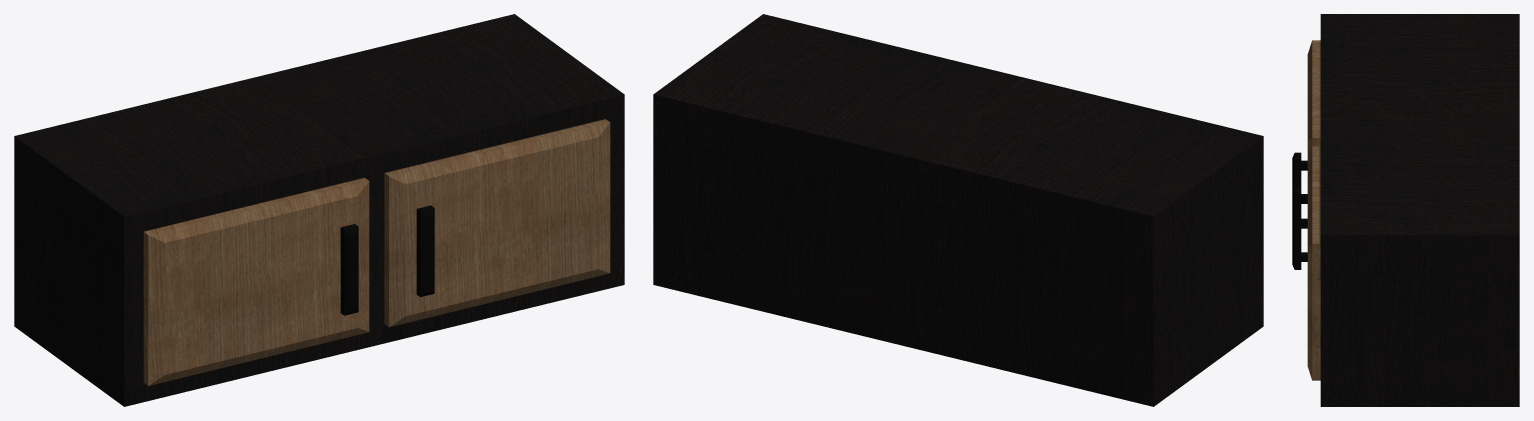
Rendered from TV_Stand_Q_UN_TEX.FBX.
3 renders of one model, left to right at view 1: azimuth 30°, elevation 25°; view 2: azimuth 150°, elevation 25°; view 3: azimuth 270°, elevation 25°, orthographic. The views are drawn at different scales.
Parts seen in each view (by area): view 1: TV_Stand, knob; view 2: TV_Stand; view 3: TV_Stand, knob.
Part boxes in pixels (bbox=[...]): TV_Stand: bbox=[14, 14, 624, 406]; knob: bbox=[340, 205, 434, 315]; TV_Stand: bbox=[653, 14, 1263, 406]; TV_Stand: bbox=[1307, 14, 1519, 406]; knob: bbox=[1292, 152, 1307, 269].
Bounding box in the file's own units: 93.2 × 33.87 × 40.59.
